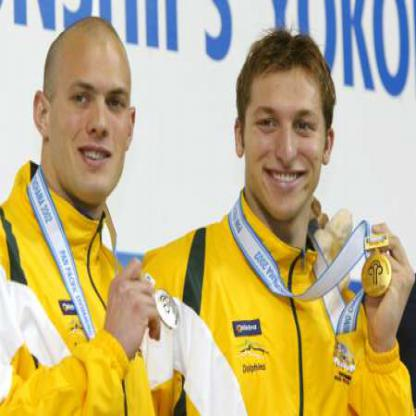face: (50, 20, 137, 205), (246, 40, 329, 222)
